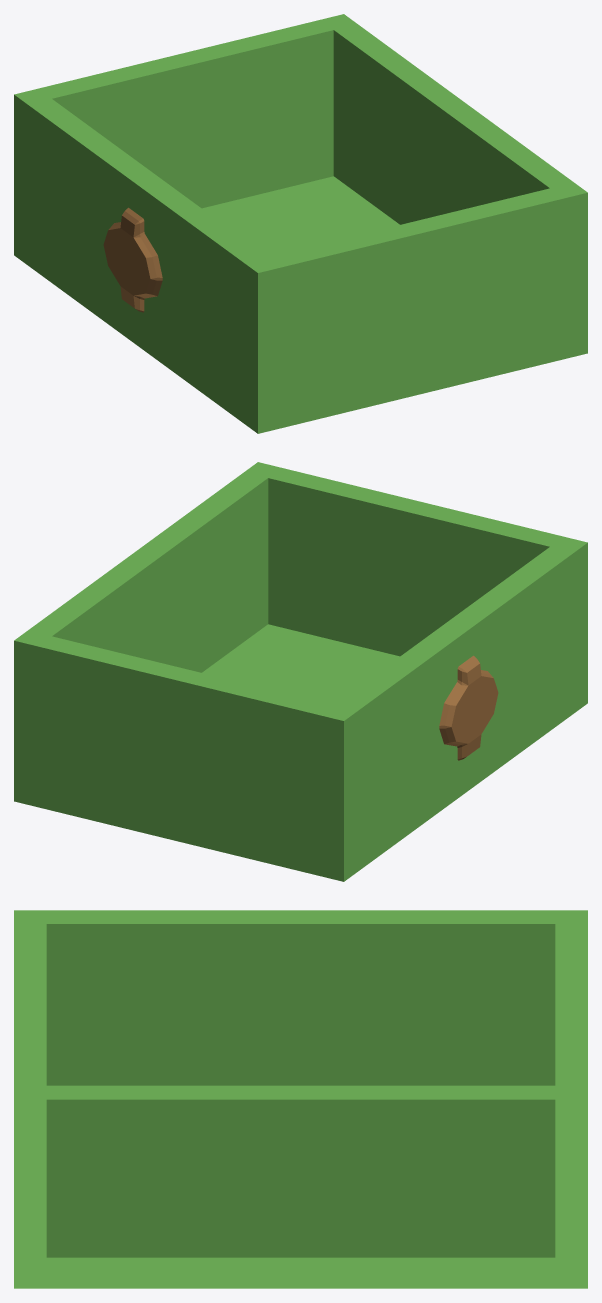
File: NST_Bedside_Drawer.fbx
The picture shows the model from 3 angles, top to bottom: view 1: azimuth 30°, elevation 25°; view 2: azimuth 150°, elevation 25°; view 3: azimuth 270°, elevation 25°; orthographic projection. The views are drawn at different scales.
Visible parts, largest first — view 1: NST_Bedside_Drawer; view 2: NST_Bedside_Drawer; view 3: NST_Bedside_Drawer.
Boxes of the visible parts, box(x1,y1,x2,y2) form: NST_Bedside_Drawer: box(14, 14, 587, 433); NST_Bedside_Drawer: box(14, 462, 587, 881); NST_Bedside_Drawer: box(14, 910, 587, 1288).
Size of the model in its own units: 42.05 by 19.06 by 52.43.
